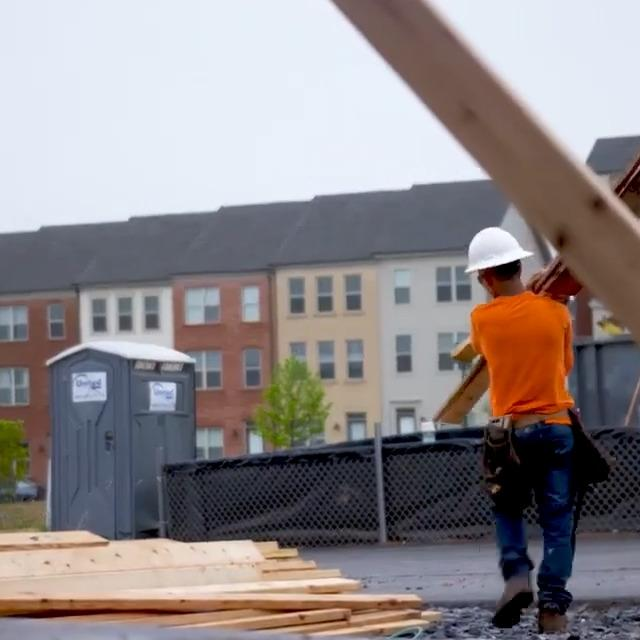Hardhat: (465, 226, 536, 274)
NO-Safety Vest: (472, 294, 572, 423)
Person: (463, 226, 580, 636)
